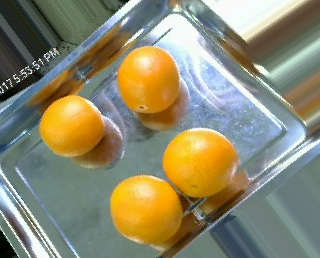Orange: (162, 125, 240, 198), (110, 173, 182, 244), (40, 93, 104, 157), (117, 45, 179, 111)
